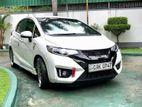car: (7, 15, 123, 89)
